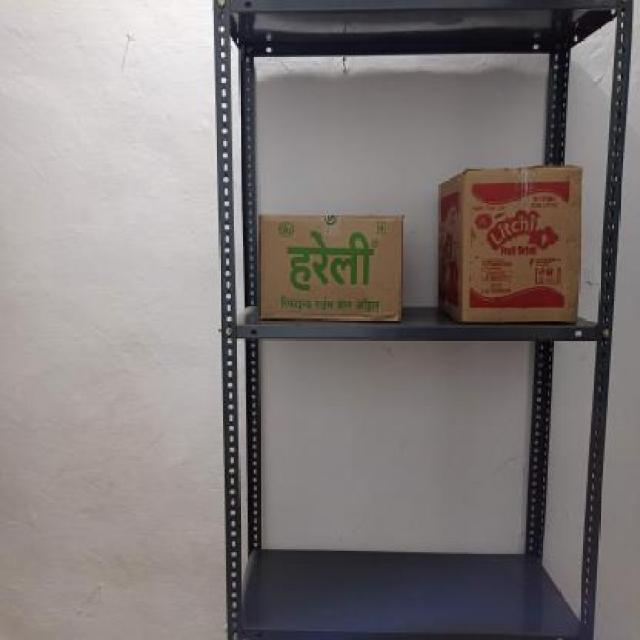box: (463, 169, 580, 326), (256, 213, 404, 324)
